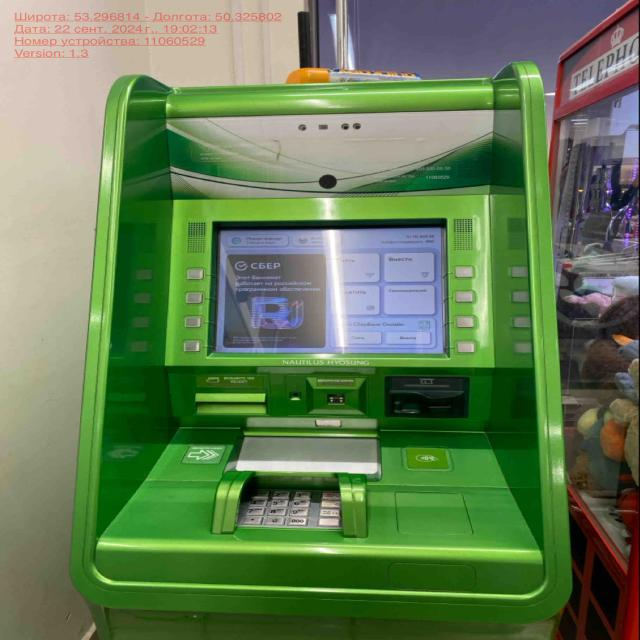bank: (71, 63, 578, 640)
